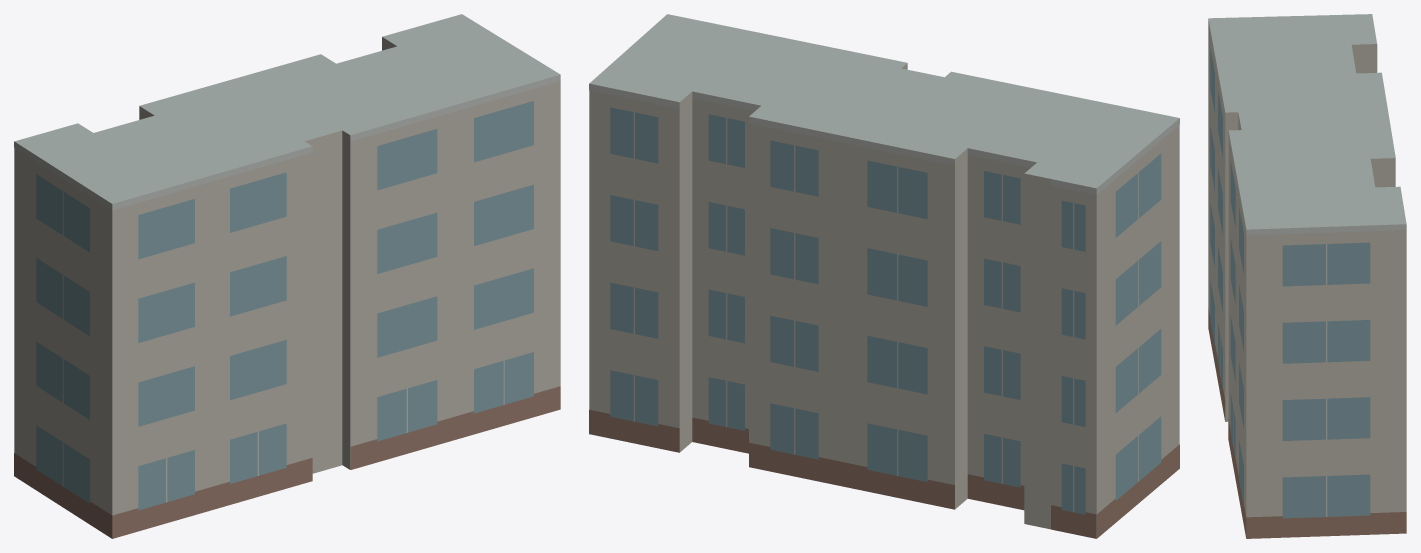
The model's file is survey-upis-32633180.glb.
The picture shows the model from 3 angles, left to right: view 1: azimuth 30°, elevation 25°; view 2: azimuth 150°, elevation 25°; view 3: azimuth 270°, elevation 25°; orthographic projection. The views are drawn at different scales.
Parts seen in each view (by area): view 1: survey-upis-32633180.tmp; view 2: survey-upis-32633180.tmp; view 3: survey-upis-32633180.tmp.
Part boxes in pixels (x1,y1,x2,y2): survey-upis-32633180.tmp: [14, 14, 560, 538]; survey-upis-32633180.tmp: [589, 14, 1179, 538]; survey-upis-32633180.tmp: [1208, 14, 1406, 538].
Bounding box in the file's own units: 19.15 × 12.8 × 7.45.
